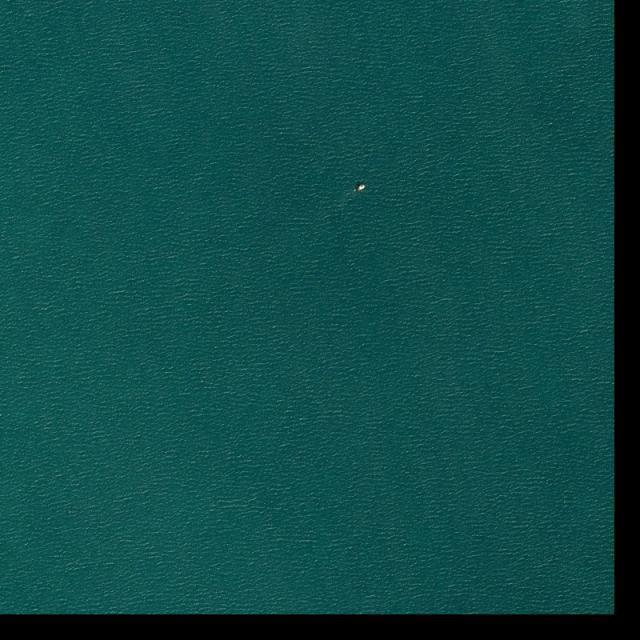ship: (355, 183, 366, 193)
